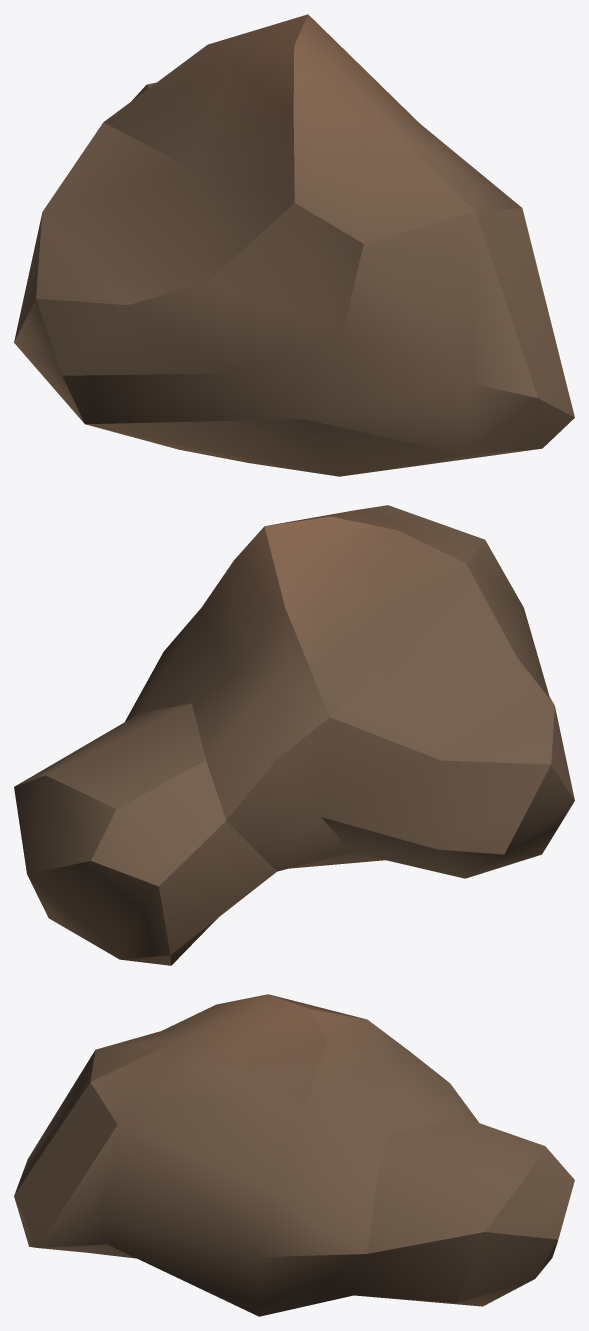
The model's file is Obstacle2.fbx.
The picture shows the model from 3 angles, top to bottom: view 1: azimuth 30°, elevation 25°; view 2: azimuth 150°, elevation 25°; view 3: azimuth 270°, elevation 25°; orthographic projection. The views are drawn at different scales.
Visible parts, largest first — view 1: Obstacle2_LOD0; view 2: Obstacle2_LOD0; view 3: Obstacle2_LOD0.
Part boxes in pixels (box(x1,y1,x2,y2)): Obstacle2_LOD0: box(14, 14, 574, 476); Obstacle2_LOD0: box(14, 505, 574, 965); Obstacle2_LOD0: box(14, 994, 574, 1316).
Size of what is drawn, in the model's own units: 1.13 by 0.9412 by 1.65.
